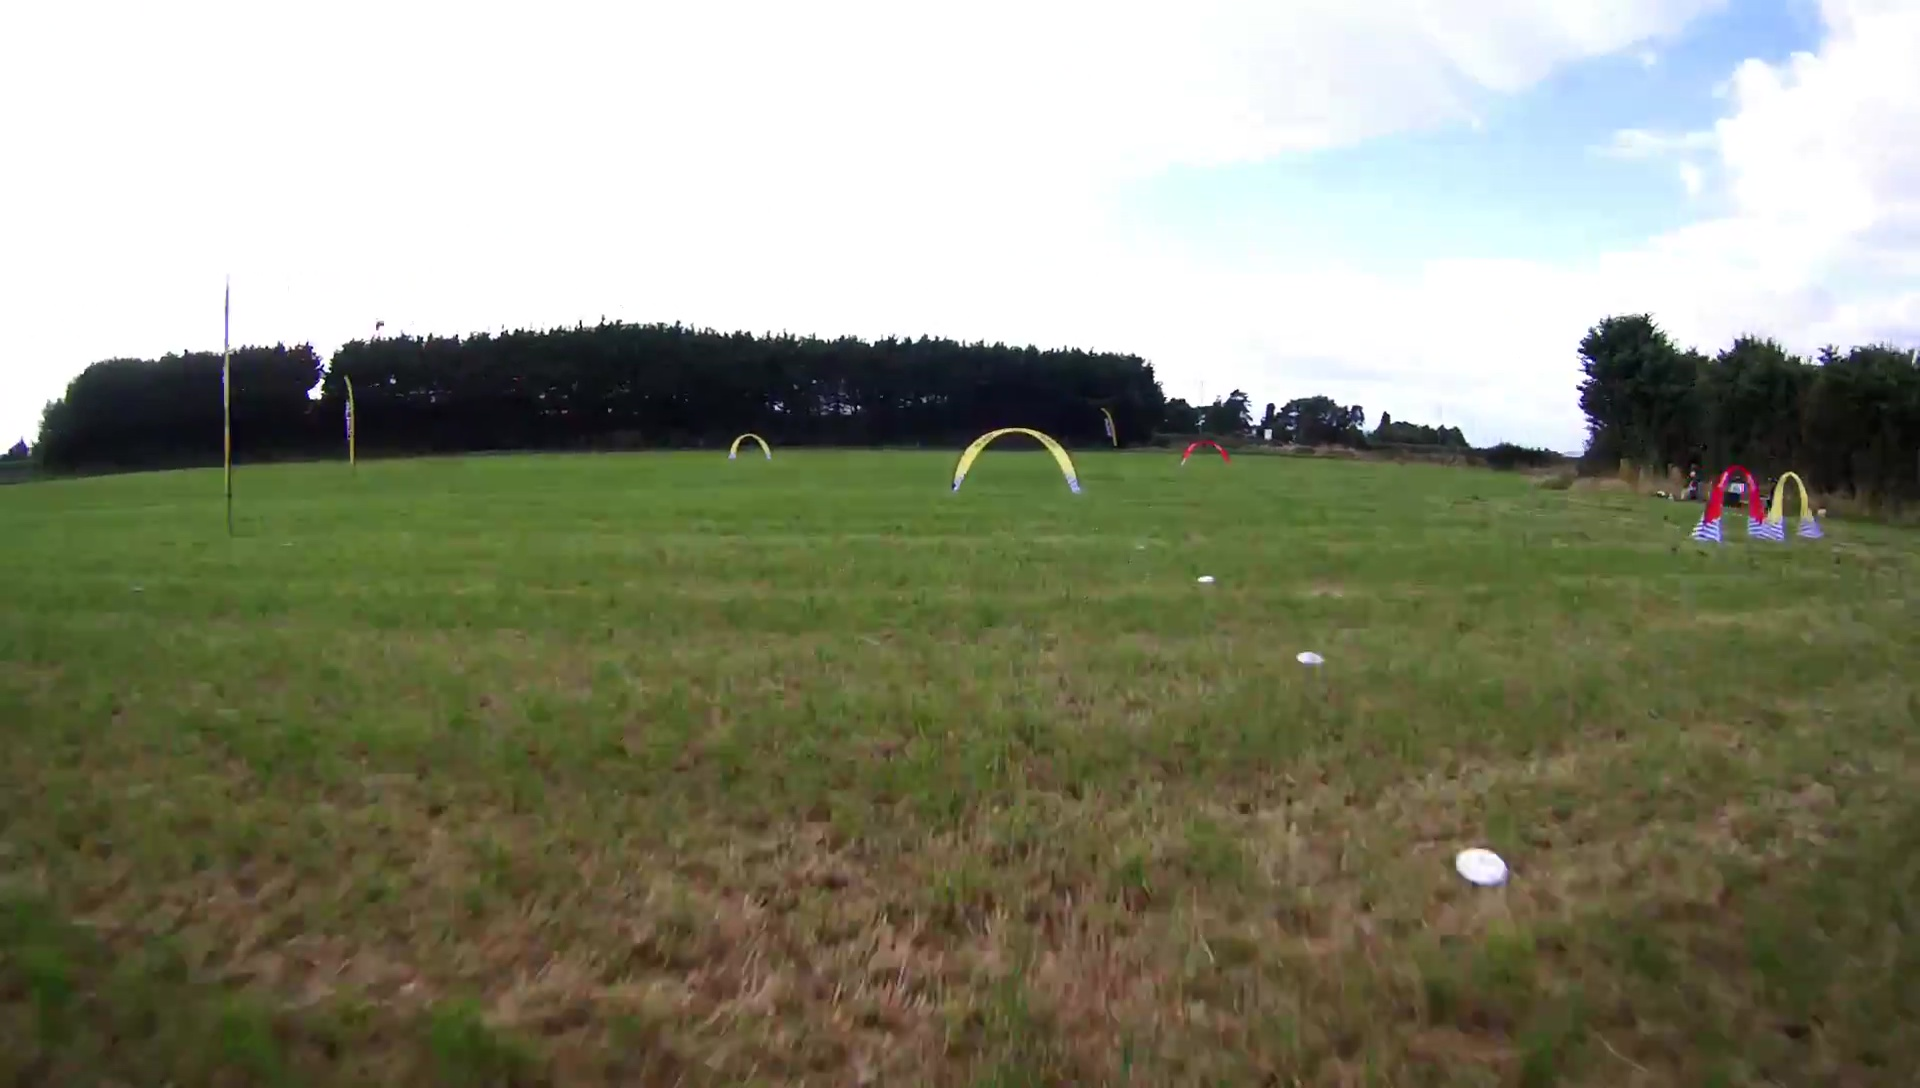gate: (948, 426, 1087, 496), (1689, 463, 1764, 546), (1767, 468, 1826, 542), (1176, 439, 1234, 467), (727, 433, 775, 462)
